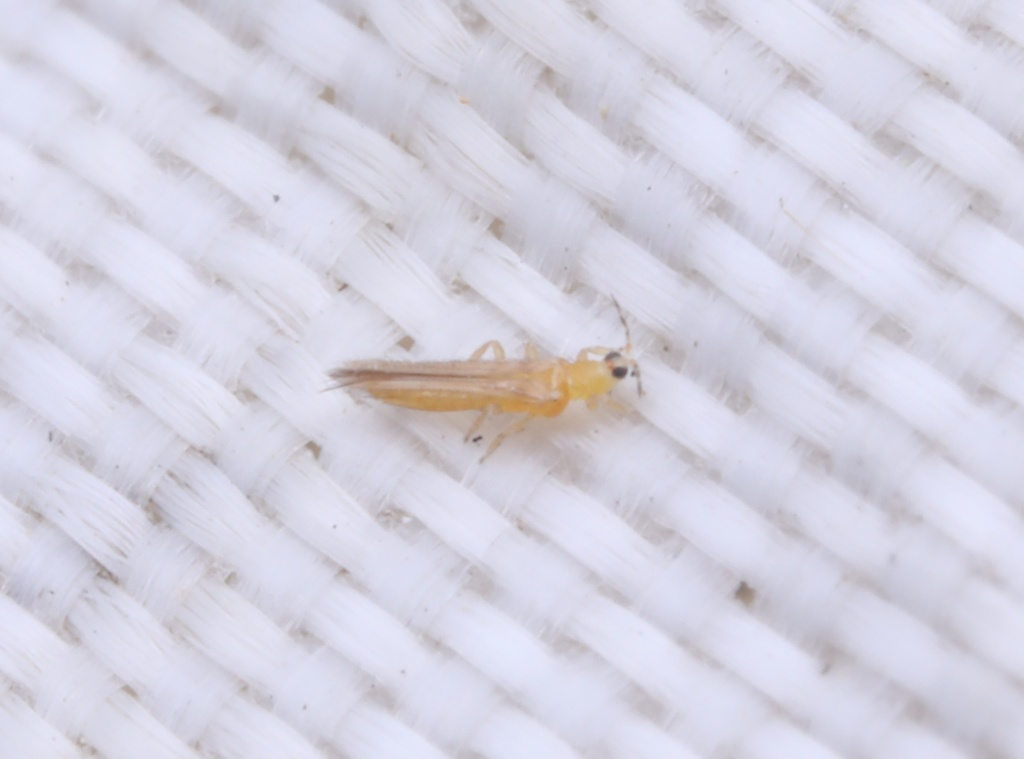tiny_pests: (265, 254, 733, 506)
